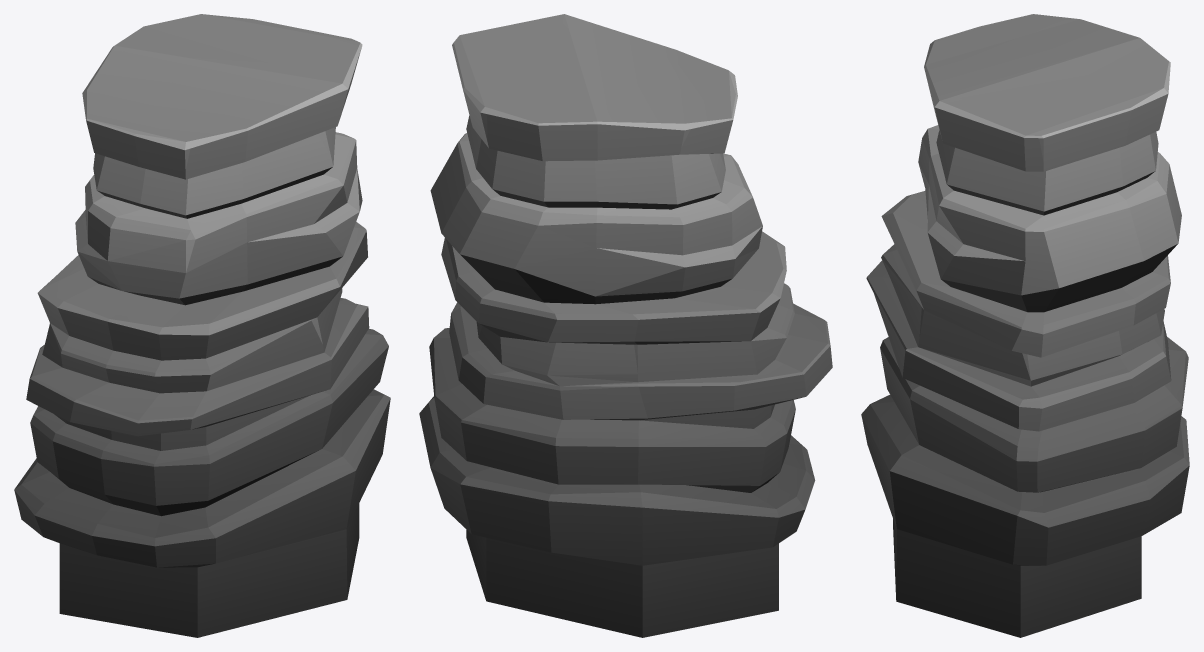
File: Rock2.fbx
3 renders of one model, left to right at view 1: azimuth 30°, elevation 25°; view 2: azimuth 150°, elevation 25°; view 3: azimuth 270°, elevation 25°, orthographic. The views are drawn at different scales.
Parts seen in each view (by area): view 1: Rock.002; view 2: Rock.002; view 3: Rock.002.
Boxes of the visible parts, bbox=[...] form: Rock.002: bbox=[14, 14, 390, 637]; Rock.002: bbox=[419, 14, 832, 637]; Rock.002: bbox=[861, 14, 1189, 637].
Bounding box in the file's own units: 239 × 310 × 181.
1 material, 1 textured.
